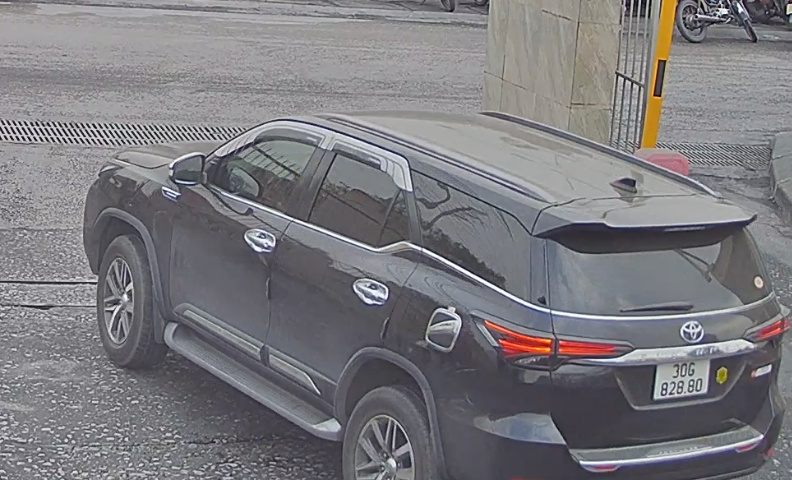vehicle plate: (656, 353, 720, 404)
